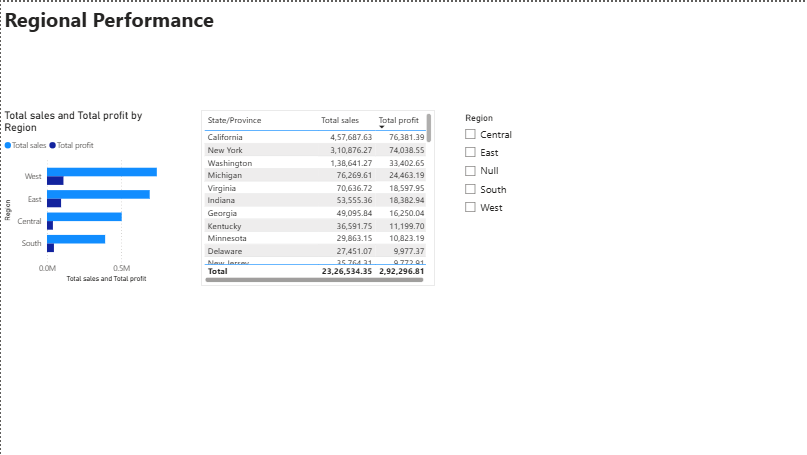

The page's visual inventory and layout, read from the dashboard file:
{"tool":"powerbi","page":{"name":"Regional Performance","canvas":[1280,720],"ordinal":1},"visuals":[{"type":"clusteredBarChart","fields":{"Category":["Orders.Region"],"Y":["Measure.Total sales","Measure.Total profit"]},"box":[0,169.7,280.5,280.5],"z":0},{"type":"tableEx","fields":{"Values":["Orders.State/Province","Measure.Total sales","Measure.Total profit"]},"box":[317.5,171.3,371.2,278.8],"z":1000},{"type":"slicer","fields":{"Values":["Orders.Region"]},"box":[724,171.3,280.5,280.5],"z":2000},{"type":"textbox","box":[0,0,838.2,92.4],"z":2001}]}

Visuals, with their boxes in screenshot pixels (x1, y1, x2, y2), scaled from the page's 1280x720 canvas onto the 807x455 screenshot:
clusteredBarChart - Orders.Region x Measure.Total sales: <bbox>0, 107, 177, 285</bbox>
tableEx - Orders.State/Province x Measure.Total sales: <bbox>200, 108, 434, 284</bbox>
slicer - Orders.Region: <bbox>456, 108, 633, 286</bbox>
textbox: <bbox>0, 0, 528, 58</bbox>
